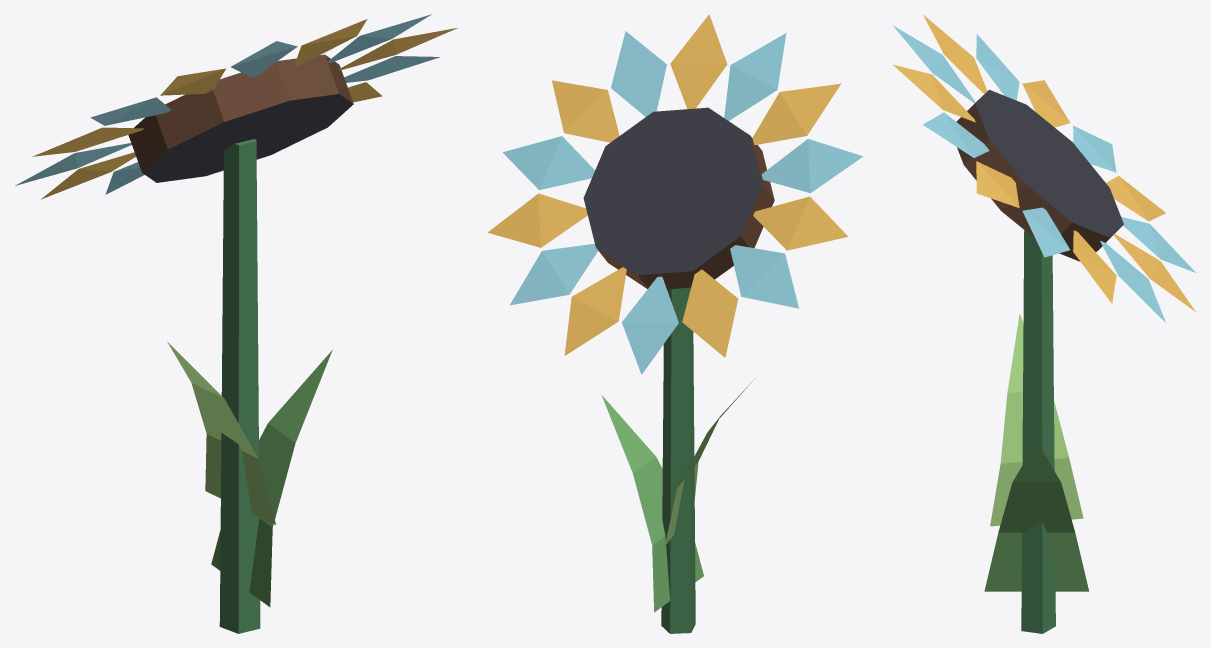
File: deco_sunflower.obj
3 renders of one model, left to right at view 1: azimuth 30°, elevation 25°; view 2: azimuth 150°, elevation 25°; view 3: azimuth 270°, elevation 25°, orthographic. The views are drawn at different scales.
Visible parts, largest first — view 1: deco_sunflower; view 2: deco_sunflower; view 3: deco_sunflower.
Boxes of the visible parts, box(x1,y1,x2,y2) form: deco_sunflower: box(15, 14, 457, 633); deco_sunflower: box(488, 14, 863, 633); deco_sunflower: box(893, 14, 1195, 633).
Bounding box in the file's own units: 0.044 × 0.0672 × 0.0319.
Materials: 1 (1 with a texture image).
